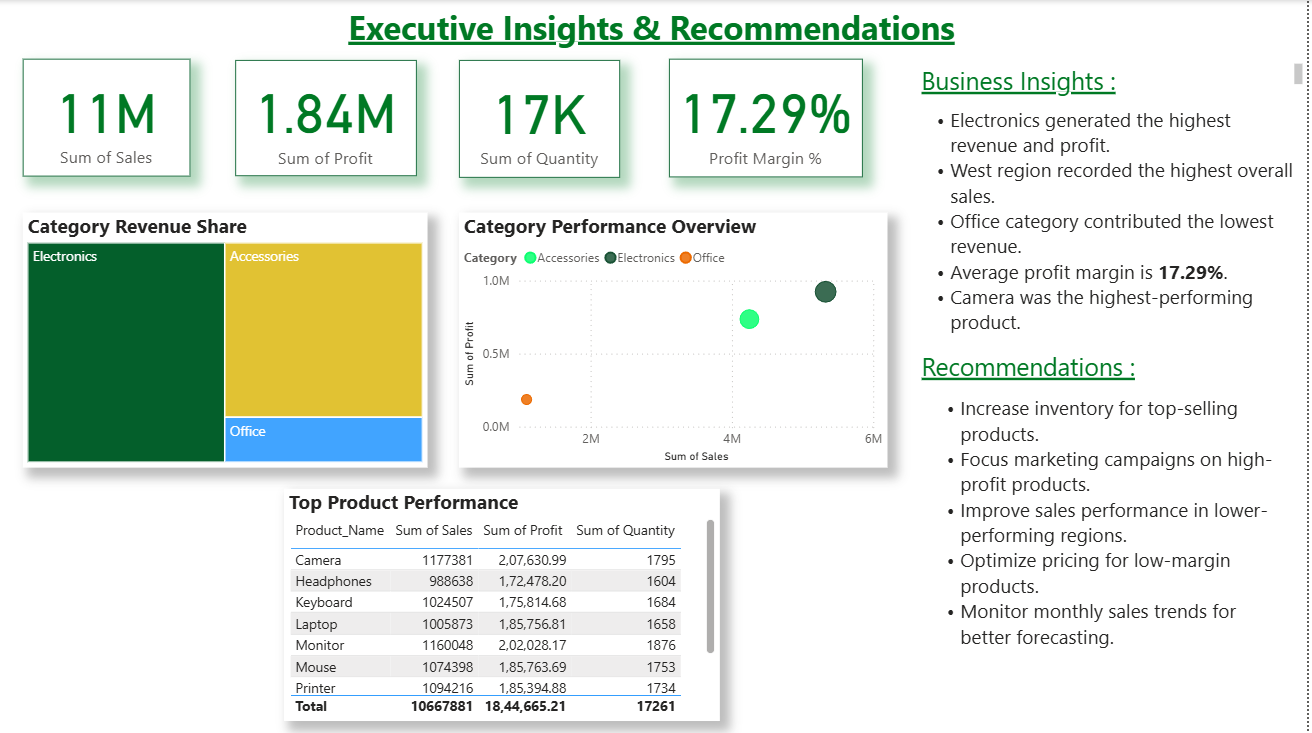

The dashboard page shown, as its layout file describes it:
{"tool":"powerbi","page":{"name":"Executive Insights & Recommendations","canvas":[1280,720],"ordinal":3},"visuals":[{"type":"textbox","box":[9.8,0,1257.1,57.5],"z":0},{"type":"card","fields":{"Values":["Sum(ecommerce_sales_cleaned.Sales)"]},"box":[23.2,57.5,163.9,114.9],"z":1000},{"type":"card","fields":{"Values":["Sum(ecommerce_sales_cleaned.Profit)"]},"box":[231.1,58.7,177.3,113.7],"z":2000},{"type":"card","fields":{"Values":["Sum(ecommerce_sales_cleaned.Quantity)"]},"box":[450,58.7,157.7,114.9],"z":3000},{"type":"card","fields":{"Values":["ecommerce_sales_cleaned.Profit Margin %"]},"box":[655.4,57.5,189.5,116.2],"z":4000},{"type":"scatterChart","title":"Category Performance Overview","fields":{"X":["Sum(ecommerce_sales_cleaned.Sales)"],"Y":["Sum(ecommerce_sales_cleaned.Profit)"],"Category":["ecommerce_sales_cleaned.Category"],"Size":["Sum(ecommerce_sales_cleaned.Quantity)"],"Series":["ecommerce_sales_cleaned.Category"]},"box":[450,207.9,419.4,249.5],"z":5000},{"type":"treemap","title":"Category Revenue Share","fields":{"Group":["ecommerce_sales_cleaned.Category"],"Values":["Sum(ecommerce_sales_cleaned.Sales)"]},"box":[23.2,207.9,396.2,249.5],"z":6000},{"type":"tableEx","title":"Top Product Performance","fields":{"Values":["ecommerce_sales_cleaned.Product_Name","Sum(ecommerce_sales_cleaned.Sales)","Sum(ecommerce_sales_cleaned.Profit)","Sum(ecommerce_sales_cleaned.Quantity)"]},"box":[278.8,478.1,426.8,227.4],"z":7000},{"type":"textbox","box":[897.6,57.5,382.7,41.6],"z":8000},{"type":"textbox","box":[897.6,99,382.7,247],"z":9000},{"type":"textbox","box":[897.6,337.5,270.2,44],"z":10000},{"type":"textbox","box":[907.3,381.5,359.5,262.9],"z":11000}]}

Visuals, with their boxes in screenshot pixels (x1, y1, x2, y2), scaled from the page's 1280x720 canvas onto the 1312x733 screenshot:
textbox: crop(10, 0, 1299, 59)
card - Sum(ecommerce_sales_cleaned.Sales): crop(24, 59, 192, 176)
card - Sum(ecommerce_sales_cleaned.Profit): crop(237, 60, 419, 176)
card - Sum(ecommerce_sales_cleaned.Quantity): crop(461, 60, 623, 177)
card - ecommerce_sales_cleaned.Profit Margin %: crop(672, 59, 866, 177)
"Category Performance Overview" scatterChart: crop(461, 212, 891, 466)
"Category Revenue Share" treemap: crop(24, 212, 430, 466)
"Top Product Performance" tableEx: crop(286, 487, 723, 718)
textbox: crop(920, 59, 1311, 101)
textbox: crop(920, 101, 1311, 352)
textbox: crop(920, 344, 1197, 388)
textbox: crop(930, 388, 1298, 656)
